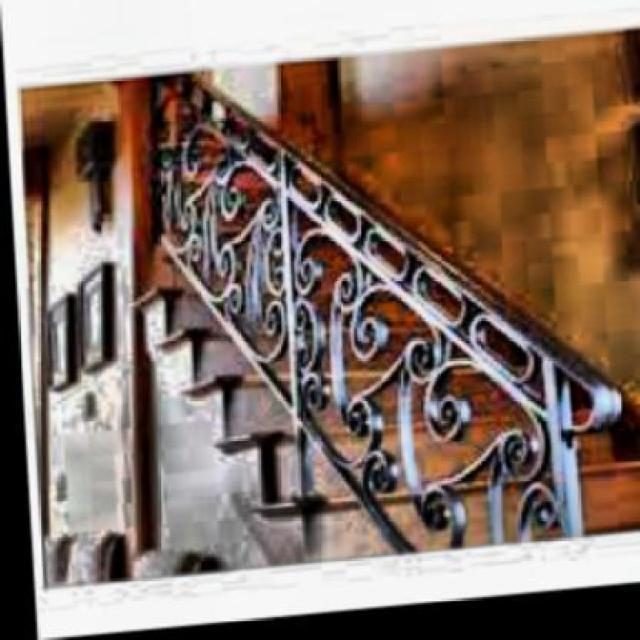stair: (124, 243, 638, 629)
